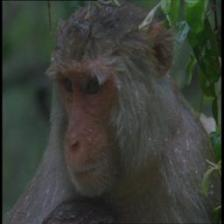monkey: (31, 2, 192, 208)
